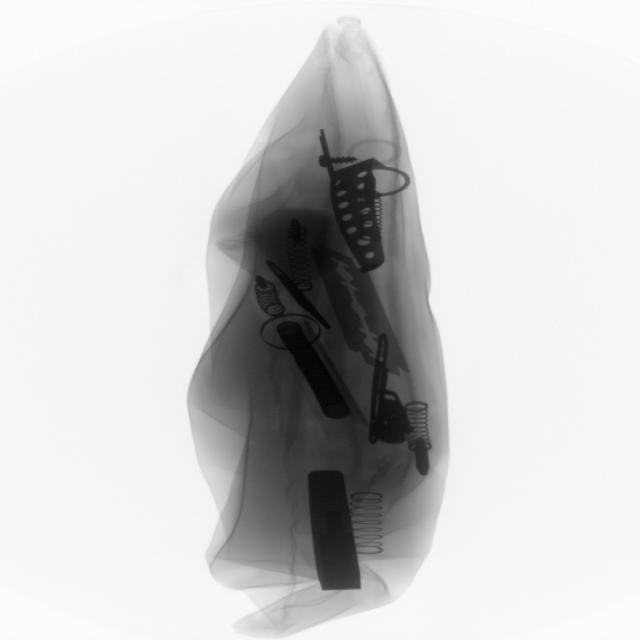BLADE: (308, 240, 399, 376)
